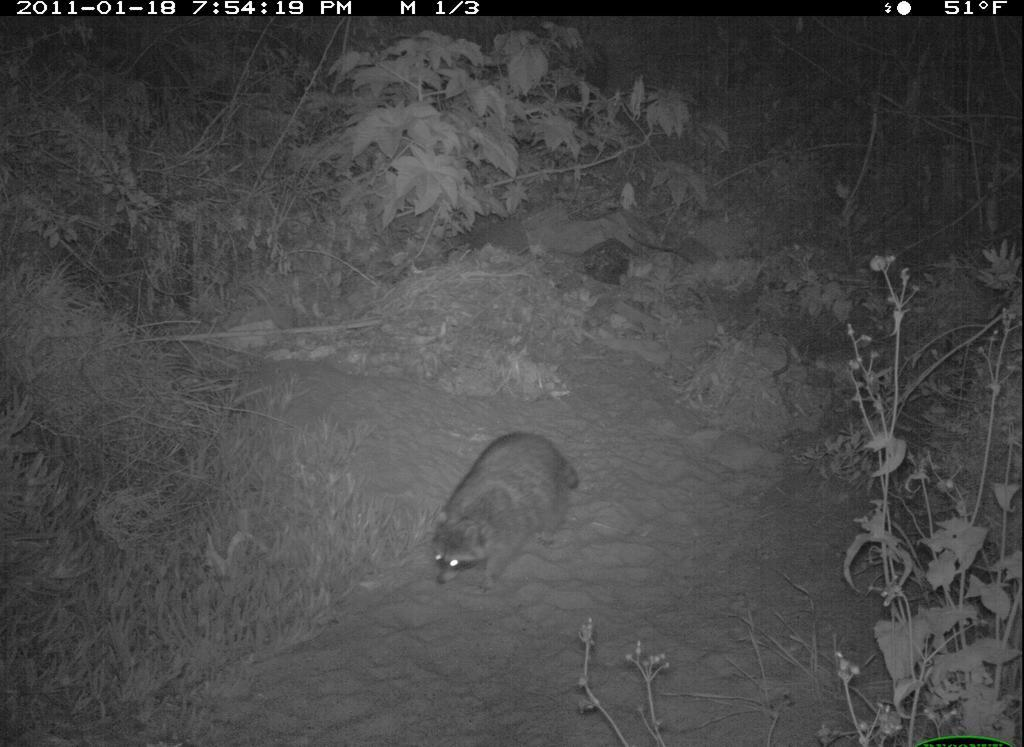raccoon: (410, 427, 598, 597)
